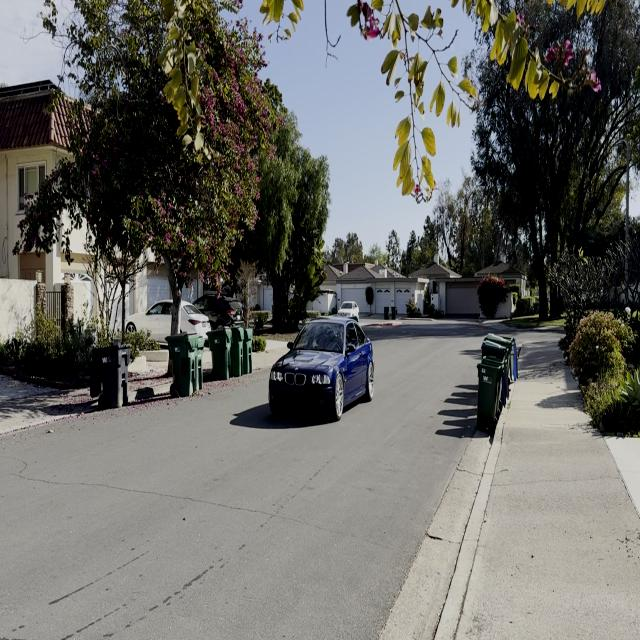Carbeetle: (264, 306, 381, 428)
